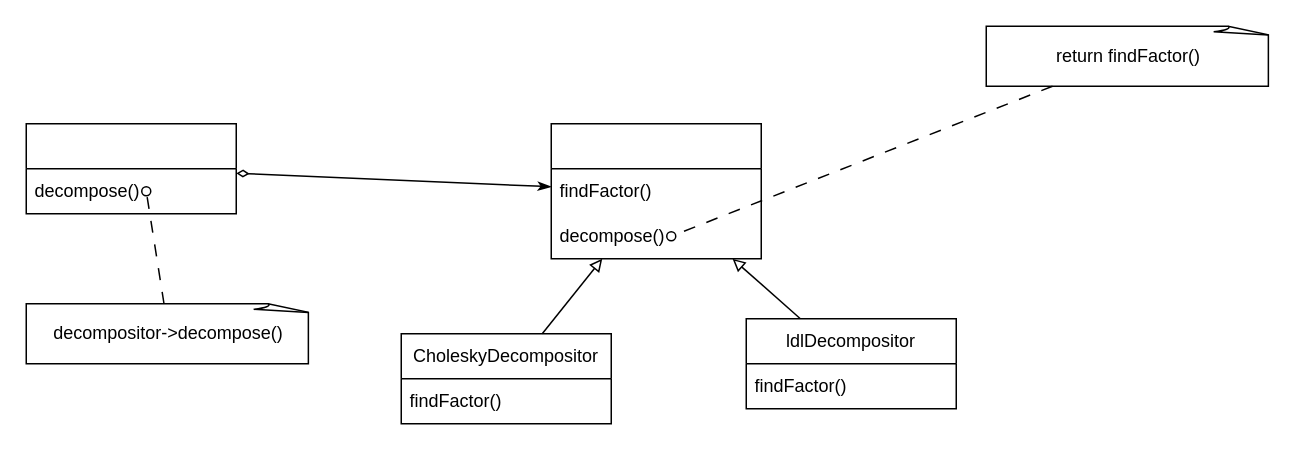
Some shapes in this 1298 by 450 pixel diagram are drawn without their labels. Here are the shapes that lost their labels. From the top down, the box of each, then its label:
(25, 122, 236, 214): MatrixDecomposition
(550, 122, 761, 259): decompositor
